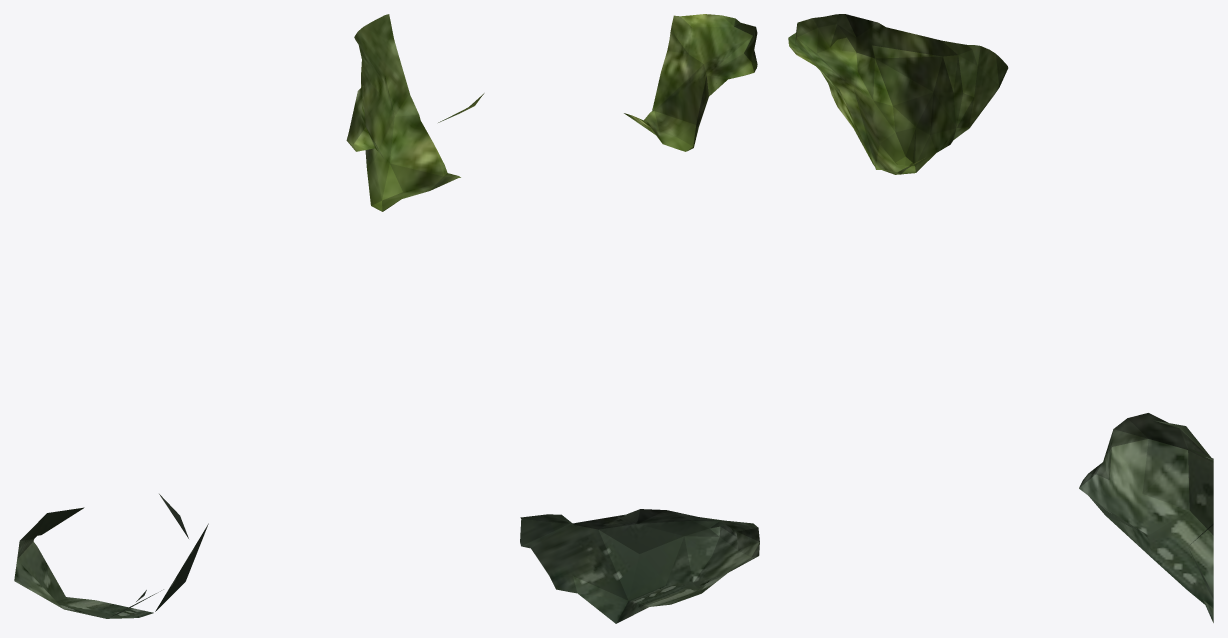
3 renders of one model, left to right at view 1: azimuth 30°, elevation 25°; view 2: azimuth 150°, elevation 25°; view 3: azimuth 270°, elevation 25°, orthographic. The views are drawn at different scales.
Bounding box in the file's own units: 1.25 × 2.65 × 1.69.
Materials: 1 (1 with a texture image).
